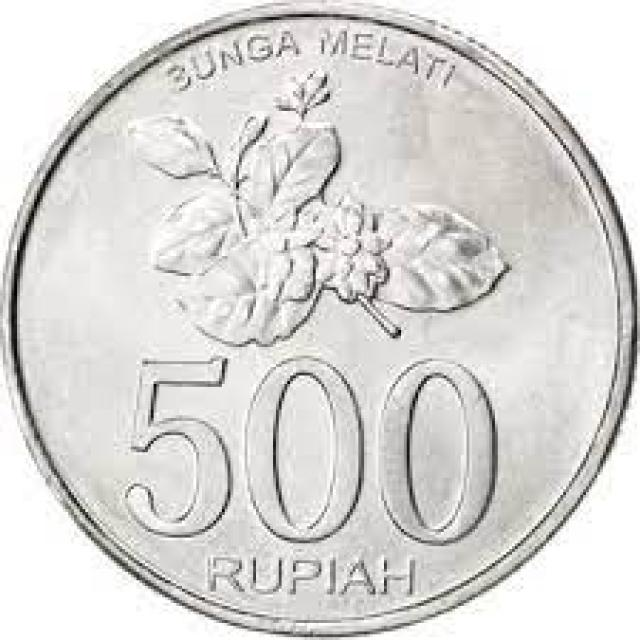500-kuning: (4, 4, 636, 634)
